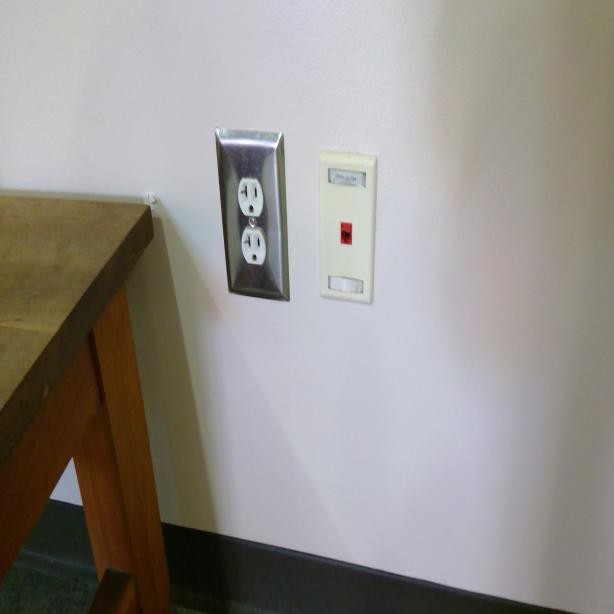typeb: (239, 180, 262, 218), (241, 229, 265, 264)
